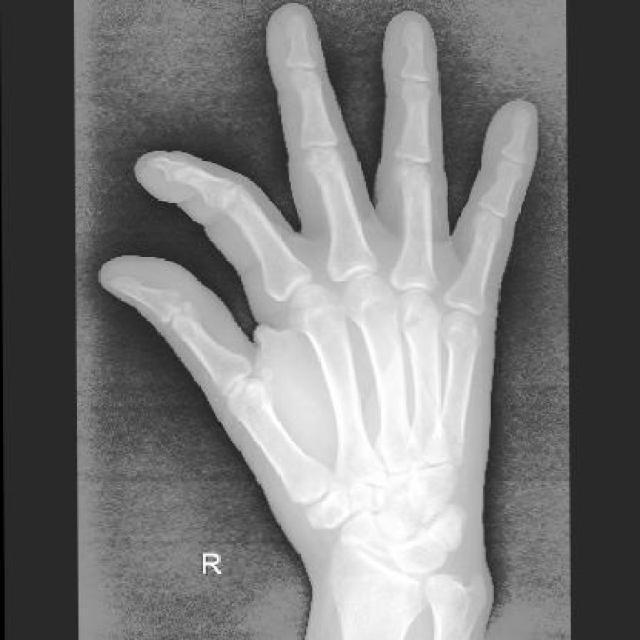Fracture: (405, 348, 443, 433)
